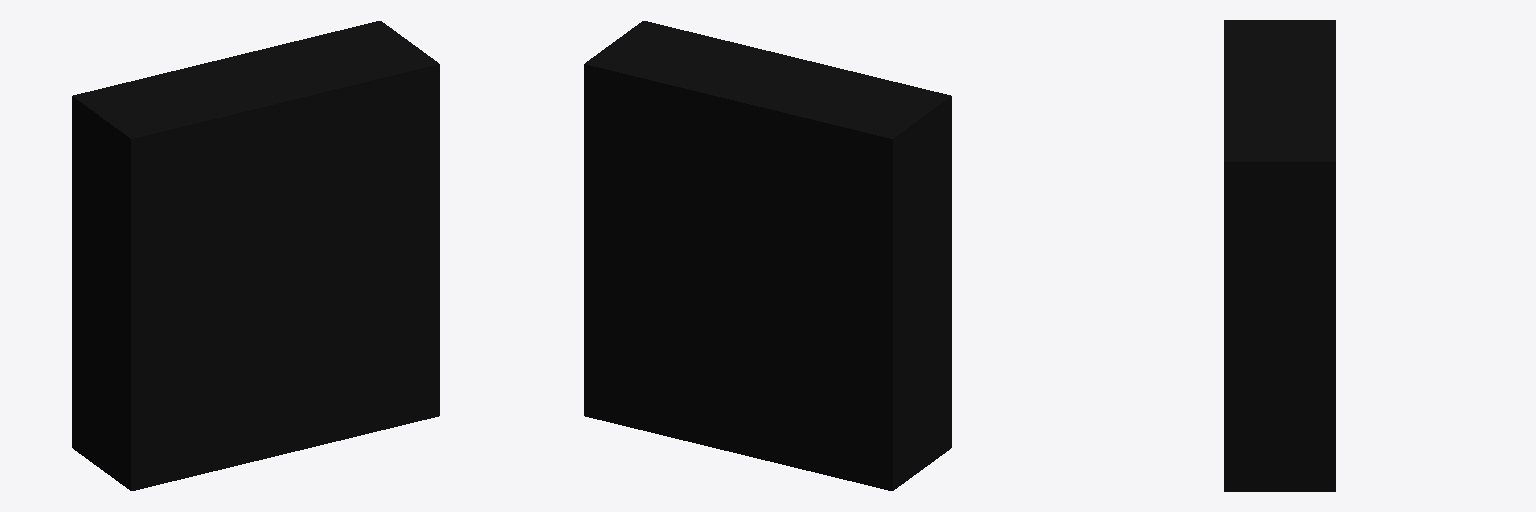
robot.urdf — simple_cuboid:
<?xml version="1.0"?>
<robot name="simple_cuboid">
  <link name="base_link">
    <inertial>
      <origin xyz="0 0 0" rpy="0 0 0" />
      <mass value="0.122" />
      <inertia ixx="0.000360" ixy="0" ixz="0" iyy="0.0000615" iyz="0"
          izz="0.00036" />
    </inertial>
    <visual>
      <origin xyz="0 0 0" rpy="0 0 0" />
      <geometry>
        <box size="0.165 0.055 0.180" />
      </geometry>
      <material name="blackish">
        <color rgba="0.1 0.1 0.1 1.0" />
      </material>
    </visual>

    <!--
      This places contact spheres on the corners of the visual box and a
      *slightly* smaller inset contact box (centered on the visual origin). This
      accounts for issues in the contact computation providing stable table
      contact *and* supports grasping.

      When the box is in stable contact with the ground plane, the corner
      spheres will provide fixed contact points (simulating distributed contact
      points around the face).  However, for arbitrary grip configuration, the
      slightly inset box will provide contact with a *slight* offset (in this
      case a deviation of 0.0005 m from the visual surface).
     -->
    <collision>
      <geometry>
        <box size="0.164 0.054 0.170" />
      </geometry>
    </collision>

    <collision>
      <origin xyz="-0.0825 -0.0275 -0.09" rpy="0 0 0"/>
      <geometry>
        <sphere radius="1e-7"/>
      </geometry>
    </collision>
    <collision>
      <origin xyz="-0.0825 0.0275 -0.09" rpy="0 0 0"/>
      <geometry>
        <sphere radius="1e-7"/>
      </geometry>
    </collision>
    <collision>
      <origin xyz="0.0825 0.0275 -0.09" rpy="0 0 0"/>
      <geometry>
        <sphere radius="1e-7"/>
      </geometry>
    </collision>
    <collision>
      <origin xyz="0.0825 -0.0275 -0.09" rpy="0 0 0"/>
      <geometry>
        <sphere radius="1e-7"/>
      </geometry>
    </collision>

    <!-- Add some spheres near the center too -->
    <collision>
      <origin xyz="-0.0 -0.0275 -0.09" rpy="0 0 0"/>
      <geometry>
        <sphere radius="1e-7"/>
      </geometry>
    </collision>

    <collision>
      <origin xyz="-0.0 0.0275 -0.09" rpy="0 0 0"/>
      <geometry>
        <sphere radius="1e-7"/>
      </geometry>
    </collision>

    <collision>
      <origin xyz="-0.0825 -0.0275 0.09" rpy="0 0 0"/>
      <geometry>
        <sphere radius="1e-7"/>
      </geometry>
    </collision>
    <collision>
      <origin xyz="-0.0825 0.0275 0.09" rpy="0 0 0"/>
      <geometry>
        <sphere radius="1e-7"/>
      </geometry>
    </collision>
    <collision>
      <origin xyz="0.0825 0.0275 0.09" rpy="0 0 0"/>
      <geometry>
        <sphere radius="1e-7"/>
      </geometry>
    </collision>
    <collision>
      <origin xyz="0.0825 -0.0275 0.09" rpy="0 0 0"/>
      <geometry>
        <sphere radius="1e-7"/>
      </geometry>
    </collision>

    <collision>
      <origin xyz="-0.0 -0.0275 0.09" rpy="0 0 0"/>
      <geometry>
        <sphere radius="1e-7"/>
      </geometry>
    </collision>

    <collision>
      <origin xyz="-0.0 0.0275 0.09" rpy="0 0 0"/>
      <geometry>
        <sphere radius="1e-7"/>
      </geometry>
    </collision>

  </link>
</robot>

--- What the picture shows (computed from the rendered views, not written in the file) ---
3 views of the same robot in one strip: view 1: azimuth 30°, elevation 25°; view 2: azimuth 150°, elevation 25°; view 3: azimuth 270°, elevation 25° (orthographic).
Model simple_cuboid with 1 links and 0 joints (none), rooted at base_link, posed all joints at 0.
Visible links, largest first — view 1: base_link; view 2: base_link; view 3: base_link.
Boxes of the visible links, left/top/right/bottom form: base_link: left=72, top=21, right=439, bottom=490; base_link: left=584, top=21, right=951, bottom=490; base_link: left=1224, top=20, right=1335, bottom=491.
Size in the robot's own frame: 0.165 by 0.055 by 0.18 metres.
Geometry: primitives only (box / cylinder / sphere), no mesh files.